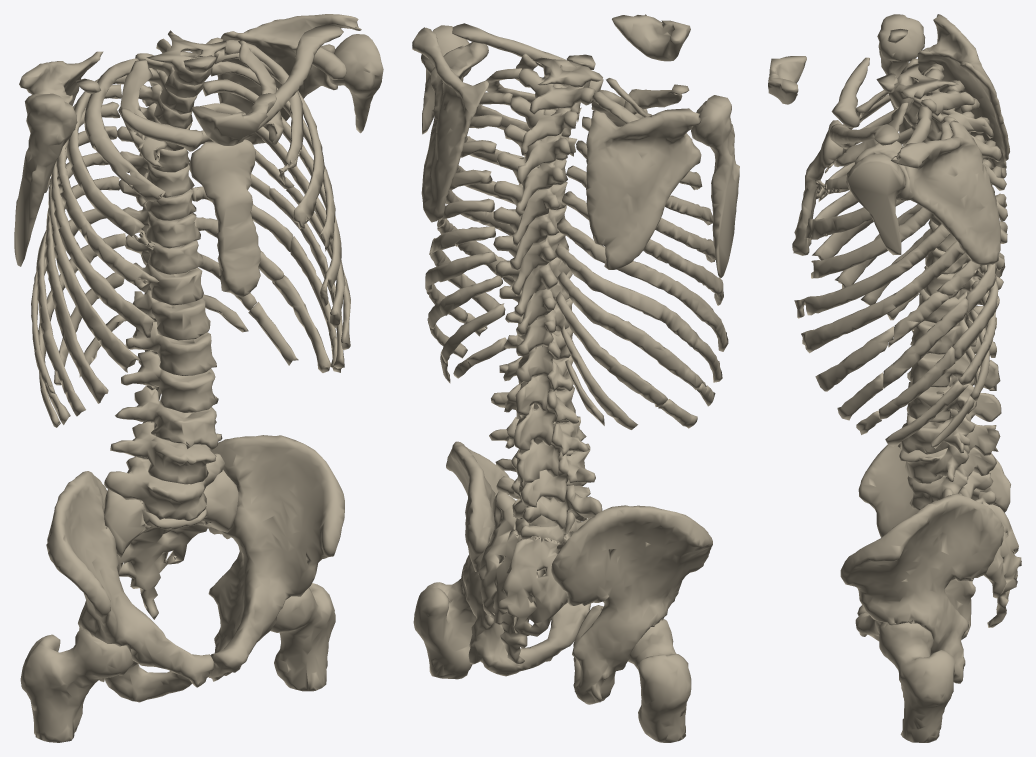
The model's file is tsd_s0327_older_adult_male.skeletal.LOD3.glb.
3 views of the same model, side by side, from view 1: azimuth 30°, elevation 25°; view 2: azimuth 150°, elevation 25°; view 3: azimuth 270°, elevation 25° (orthographic). The views are drawn at different scales.
Visible parts, largest first — view 1: TSD_S0327.OLDER_ADULT.MALE.SKELETAL.HIP_BONE_OS_COXAE.L, TSD_S0327.OLDER_ADULT.MALE.SKELETAL.HIP_BONE_OS_COXAE.R, TSD_S0327.OLDER_ADULT.MALE.SKELETAL.FEMUR.R, TSD_S0327.OLDER_ADULT.MALE.SKELETAL.SACRUM, TSD_S0327.OLDER_ADULT.MALE.SKELETAL.STERNUM, TSD_S0327.OLDER_ADULT.MALE.SKELETAL.SCAPULA.L, TSD_S0327.OLDER_ADULT.MALE.SKELETAL.HUMERUS.R, TSD_S0327.OLDER_ADULT.MALE.SKELETAL.FEMUR.L, TSD_S0327.OLDER_ADULT.MALE.SKELETAL.VERTEBRA_L5, TSD_S0327.OLDER_ADULT.MALE.SKELETAL.VERTEBRA_L4, TSD_S0327.OLDER_ADULT.MALE.SKELETAL.VERTEBRA_L3, TSD_S0327.OLDER_ADULT.MALE.SKELETAL.RIB_5.R (+41 smaller); view 2: TSD_S0327.OLDER_ADULT.MALE.SKELETAL.HIP_BONE_OS_COXAE.R, TSD_S0327.OLDER_ADULT.MALE.SKELETAL.SCAPULA.R, TSD_S0327.OLDER_ADULT.MALE.SKELETAL.SACRUM, TSD_S0327.OLDER_ADULT.MALE.SKELETAL.HIP_BONE_OS_COXAE.L, TSD_S0327.OLDER_ADULT.MALE.SKELETAL.SCAPULA.L, TSD_S0327.OLDER_ADULT.MALE.SKELETAL.FEMUR.R, TSD_S0327.OLDER_ADULT.MALE.SKELETAL.FEMUR.L, TSD_S0327.OLDER_ADULT.MALE.SKELETAL.HUMERUS.R, TSD_S0327.OLDER_ADULT.MALE.SKELETAL.RIB_8.R, TSD_S0327.OLDER_ADULT.MALE.SKELETAL.RIB_7.R, TSD_S0327.OLDER_ADULT.MALE.SKELETAL.VERTEBRA_L3, TSD_S0327.OLDER_ADULT.MALE.SKELETAL.RIB_9.R (+39 smaller); view 3: TSD_S0327.OLDER_ADULT.MALE.SKELETAL.HIP_BONE_OS_COXAE.L, TSD_S0327.OLDER_ADULT.MALE.SKELETAL.SCAPULA.L, TSD_S0327.OLDER_ADULT.MALE.SKELETAL.FEMUR.L, TSD_S0327.OLDER_ADULT.MALE.SKELETAL.HIP_BONE_OS_COXAE.R, TSD_S0327.OLDER_ADULT.MALE.SKELETAL.SCAPULA.R, TSD_S0327.OLDER_ADULT.MALE.SKELETAL.HUMERUS.L, TSD_S0327.OLDER_ADULT.MALE.SKELETAL.RIB_9.L, TSD_S0327.OLDER_ADULT.MALE.SKELETAL.RIB_6.L, TSD_S0327.OLDER_ADULT.MALE.SKELETAL.RIB_5.L, TSD_S0327.OLDER_ADULT.MALE.SKELETAL.VERTEBRA_L3, TSD_S0327.OLDER_ADULT.MALE.SKELETAL.VERTEBRA_L4, TSD_S0327.OLDER_ADULT.MALE.SKELETAL.RIB_8.L (+30 smaller).
Part boxes in pixels (<box>): TSD_S0327.OLDER_ADULT.MALE.SKELETAL.HIP_BONE_OS_COXAE.L: <box>208,435,344,681</box>; TSD_S0327.OLDER_ADULT.MALE.SKELETAL.HIP_BONE_OS_COXAE.R: <box>46,471,213,702</box>; TSD_S0327.OLDER_ADULT.MALE.SKELETAL.FEMUR.R: <box>20,629,133,742</box>; TSD_S0327.OLDER_ADULT.MALE.SKELETAL.SACRUM: <box>103,470,238,619</box>; TSD_S0327.OLDER_ADULT.MALE.SKELETAL.STERNUM: <box>189,139,260,296</box>; TSD_S0327.OLDER_ADULT.MALE.SKELETAL.SCAPULA.L: <box>217,14,361,144</box>; TSD_S0327.OLDER_ADULT.MALE.SKELETAL.HUMERUS.R: <box>14,93,77,266</box>; TSD_S0327.OLDER_ADULT.MALE.SKELETAL.FEMUR.L: <box>270,583,335,691</box>; TSD_S0327.OLDER_ADULT.MALE.SKELETAL.VERTEBRA_L5: <box>104,453,224,520</box>; TSD_S0327.OLDER_ADULT.MALE.SKELETAL.VERTEBRA_L4: <box>110,421,222,484</box>; TSD_S0327.OLDER_ADULT.MALE.SKELETAL.VERTEBRA_L3: <box>115,386,218,449</box>; TSD_S0327.OLDER_ADULT.MALE.SKELETAL.RIB_5.R: <box>50,101,154,337</box>; TSD_S0327.OLDER_ADULT.MALE.SKELETAL.HIP_BONE_OS_COXAE.R: <box>551,505,712,704</box>; TSD_S0327.OLDER_ADULT.MALE.SKELETAL.SCAPULA.R: <box>586,108,701,269</box>; TSD_S0327.OLDER_ADULT.MALE.SKELETAL.SACRUM: <box>478,491,592,664</box>; TSD_S0327.OLDER_ADULT.MALE.SKELETAL.HIP_BONE_OS_COXAE.L: <box>446,441,590,676</box>; TSD_S0327.OLDER_ADULT.MALE.SKELETAL.SCAPULA.L: <box>412,27,488,222</box>; TSD_S0327.OLDER_ADULT.MALE.SKELETAL.FEMUR.R: <box>628,619,691,742</box>; TSD_S0327.OLDER_ADULT.MALE.SKELETAL.FEMUR.L: <box>413,563,476,679</box>; TSD_S0327.OLDER_ADULT.MALE.SKELETAL.HUMERUS.R: <box>691,95,739,278</box>; TSD_S0327.OLDER_ADULT.MALE.SKELETAL.RIB_8.R: <box>554,243,722,382</box>; TSD_S0327.OLDER_ADULT.MALE.SKELETAL.RIB_7.R: <box>557,217,728,351</box>; TSD_S0327.OLDER_ADULT.MALE.SKELETAL.VERTEBRA_L3: <box>489,416,589,487</box>; TSD_S0327.OLDER_ADULT.MALE.SKELETAL.RIB_9.R: <box>557,271,706,389</box>; TSD_S0327.OLDER_ADULT.MALE.SKELETAL.HIP_BONE_OS_COXAE.L: <box>840,493,1003,683</box>; TSD_S0327.OLDER_ADULT.MALE.SKELETAL.SCAPULA.L: <box>855,120,1000,265</box>; TSD_S0327.OLDER_ADULT.MALE.SKELETAL.FEMUR.L: <box>878,622,955,742</box>; TSD_S0327.OLDER_ADULT.MALE.SKELETAL.HIP_BONE_OS_COXAE.R: <box>857,442,1010,639</box>; TSD_S0327.OLDER_ADULT.MALE.SKELETAL.SCAPULA.R: <box>917,14,1009,178</box>; TSD_S0327.OLDER_ADULT.MALE.SKELETAL.HUMERUS.L: <box>846,154,905,255</box>; TSD_S0327.OLDER_ADULT.MALE.SKELETAL.RIB_9.L: <box>856,265,998,434</box>; TSD_S0327.OLDER_ADULT.MALE.SKELETAL.RIB_6.L: <box>801,241,964,353</box>; TSD_S0327.OLDER_ADULT.MALE.SKELETAL.RIB_5.L: <box>794,223,950,318</box>; TSD_S0327.OLDER_ADULT.MALE.SKELETAL.VERTEBRA_L3: <box>900,409,1000,455</box>; TSD_S0327.OLDER_ADULT.MALE.SKELETAL.VERTEBRA_L4: <box>898,441,996,483</box>; TSD_S0327.OLDER_ADULT.MALE.SKELETAL.RIB_8.L: <box>837,263,996,420</box>.
Bounding box in the file's own units: 0.3355 × 0.6438 × 0.2462.
